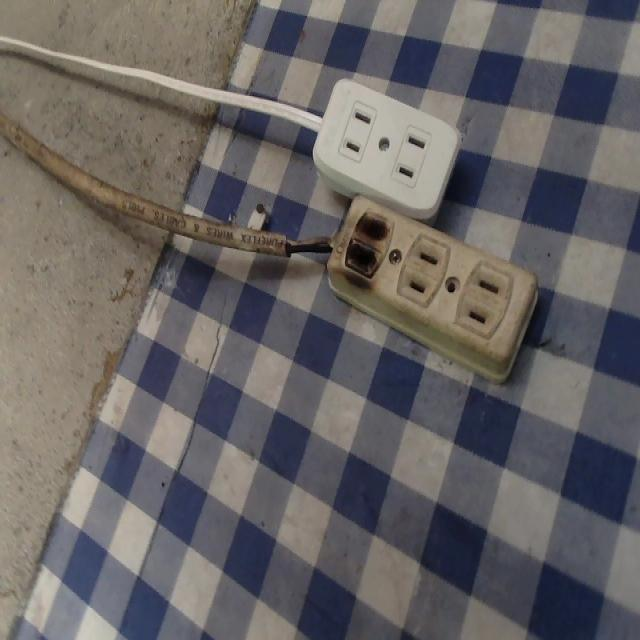-: (330, 203, 406, 289)
